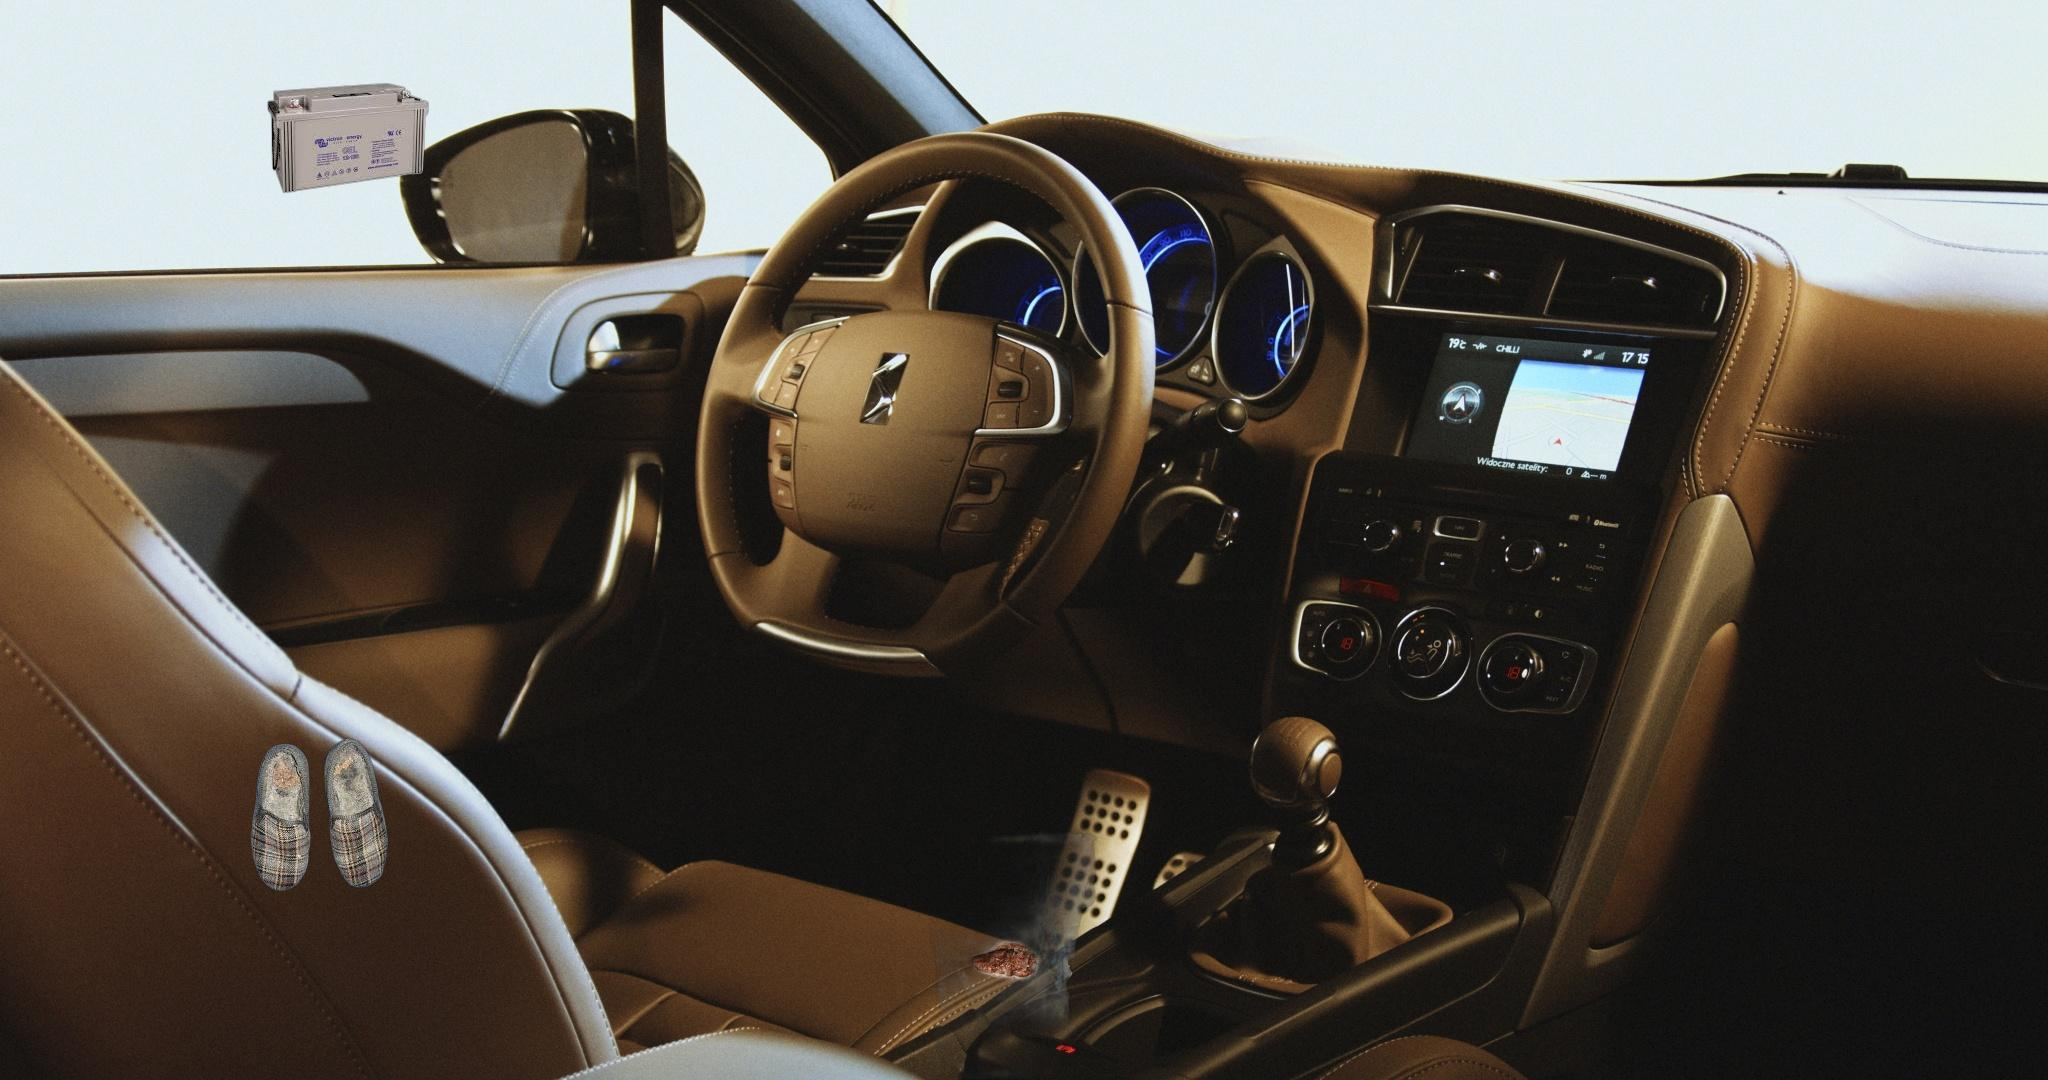battery: (265, 81, 431, 194)
shoes: (248, 736, 391, 894)
trash: (910, 818, 1103, 1079)
